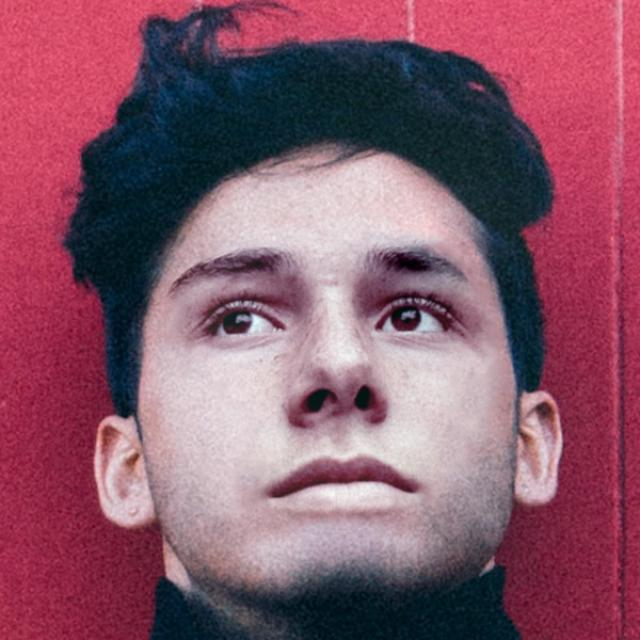face: (89, 182, 585, 607)
